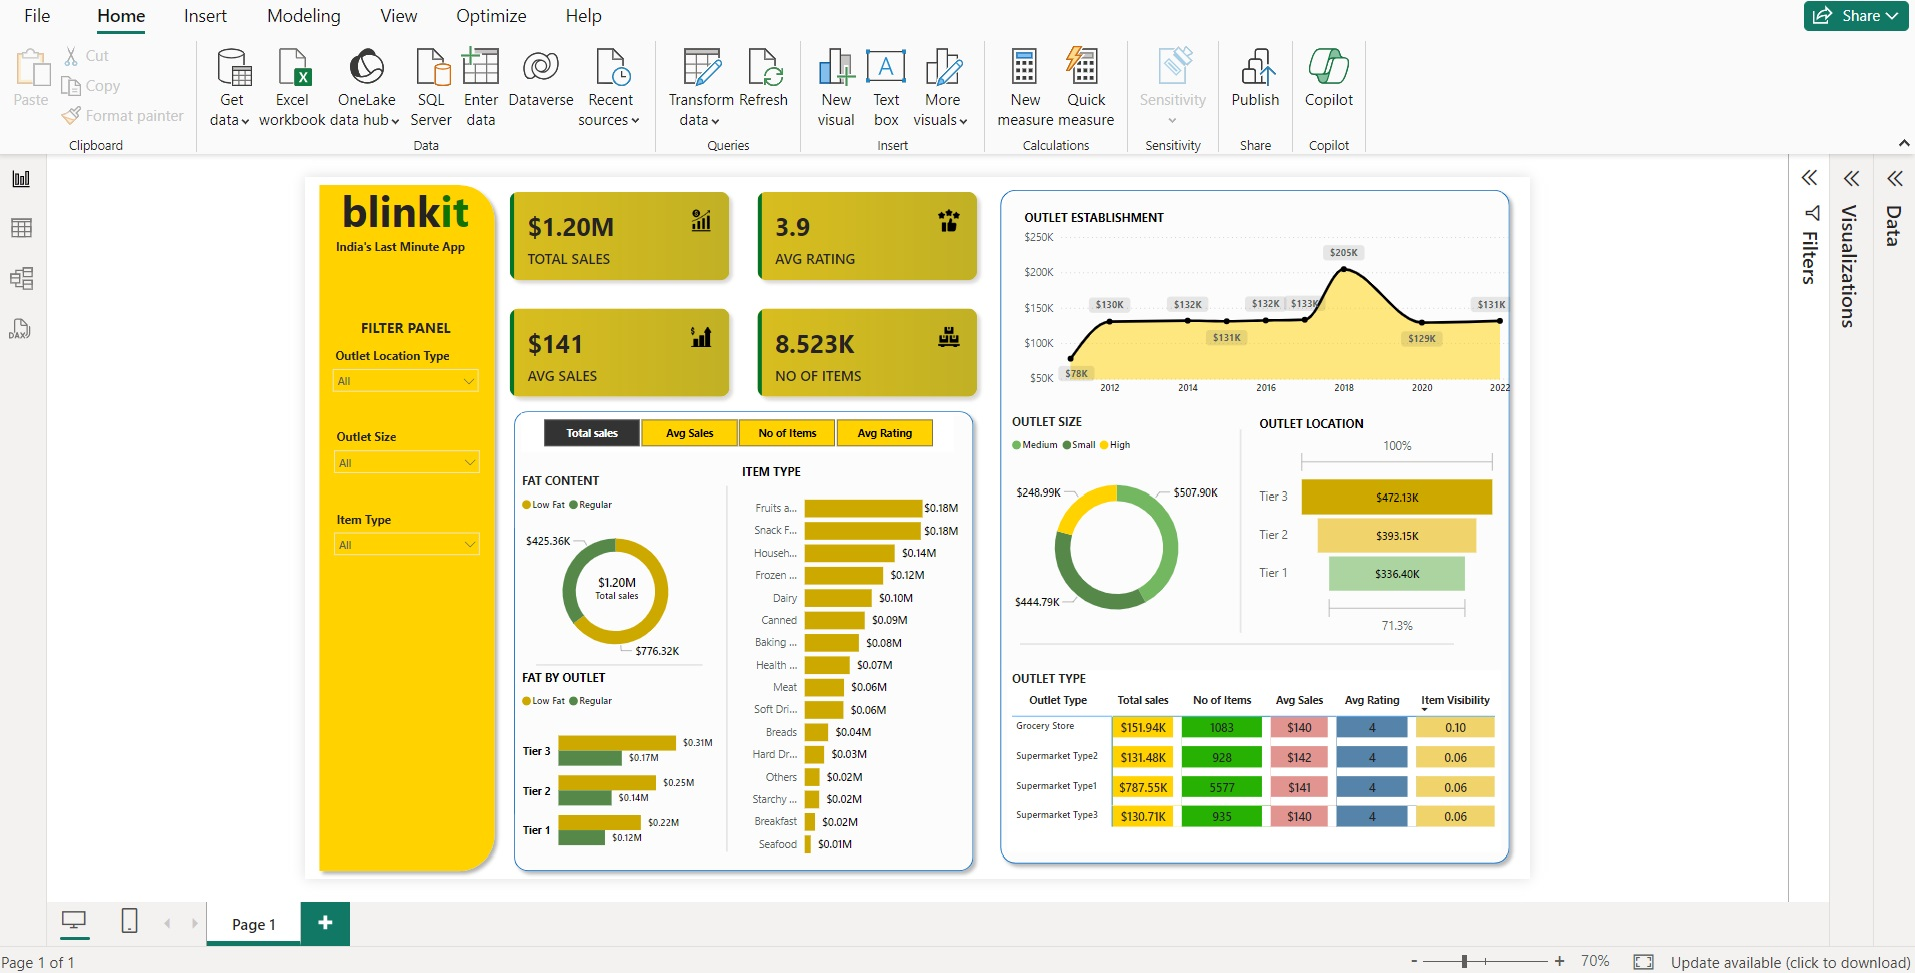

The dashboard page shown, as its layout file describes it:
{"tool":"powerbi","page":{"name":"Page 1","canvas":[1400,800],"ordinal":0},"visuals":[{"type":"shape","box":[14.1,30.8,215.4,735.9],"z":0},{"type":"textbox","box":[37.9,54.5,190.9,98.5],"z":1000},{"type":"textbox","box":[15.4,126.9,235.9,39.7],"z":2000},{"type":"cardVisual","fields":{"Data":["BlinkIT Grocery Data.Total Sales","BlinkIT Grocery Data.Average Sales","BlinkIT Grocery Data.No. of items","BlinkIT Grocery Data.Average Ratings"]},"box":[251.5,13.6,569.7,269.7],"z":3000},{"type":"shape","box":[259,266.7,553.8,500],"z":4000},{"type":"donutChart","title":"FAT CONTENT","fields":{"Y":["BlinkIT Grocery Data.No. of items"],"Category":["BlinkIT Grocery Data.Item Fat Content"]},"box":[269.2,323.1,220.5,229.5],"z":5000},{"type":"slicer","fields":{"Values":["Matrics.Matrics"]},"box":[292.3,283.3,487.2,39.7],"z":6000},{"type":"cardVisual","fields":{"Data":["BlinkIT Grocery Data.Total Sales"]},"box":[334.6,426.9,91,55.1],"z":7000},{"type":"clusteredBarChart","title":"FAT BY OUTLET","fields":{"Y":["BlinkIT Grocery Data.No. of items"],"Category":["BlinkIT Grocery Data.Outlet Location Type"],"Series":["BlinkIT Grocery Data.Item Fat Content"]},"box":[270.5,546.2,220.5,229.5],"z":8000},{"type":"shape","box":[270.5,514.1,220.5,62.8],"z":9000},{"type":"shape","box":[489.7,333.3,26.9,433.3],"z":10000},{"type":"barChart","title":"ITEM TYPE","fields":{"Y":["BlinkIT Grocery Data.No. of items"],"Category":["BlinkIT Grocery Data.Item Type"]},"box":[503.8,323.1,294.9,433.3],"z":11000},{"type":"shape","box":[812.8,30.8,564.1,735.9],"z":12000},{"type":"lineChart","title":"OUTLET ESTABLISHMENT","fields":{"Y":["BlinkIT Grocery Data.Total Sales"],"Category":["BlinkIT Grocery Data.Outlet Establishment Year"]},"box":[831.1,48.3,528.2,234.6],"z":13000},{"type":"shape","box":[825.6,260.3,538.5,62.8],"z":14000},{"type":"donutChart","title":"OUTLET SIZE","fields":{"Y":["BlinkIT Grocery Data.Total Sales"],"Category":["BlinkIT Grocery Data.Outlet Size"]},"box":[825.6,292.3,275.6,225.6],"z":15000},{"type":"shape","box":[1078.2,300,26.9,214.1],"z":16000},{"type":"funnel","title":"OUTLET LOCATION","fields":{"Y":["Sum(BlinkIT Grocery Data.Sales)"],"Category":["BlinkIT Grocery Data.Outlet Location Type"]},"box":[1101.3,300,257.7,217.9],"z":17000},{"type":"shape","box":[823.1,489.7,543.6,62.8],"z":18000},{"type":"pivotTable","title":"OUTLET TYPE","fields":{"Values":["BlinkIT Grocery Data.Total Sales","BlinkIT Grocery Data.No. of items","BlinkIT Grocery Data.Average Sales","BlinkIT Grocery Data.Average Ratings","Avg(BlinkIT Grocery Data.Item Visibility)"],"Rows":["BlinkIT Grocery Data.Outlet Type"]},"box":[823.1,528.2,541,238.5],"z":19000},{"type":"slicer","fields":{"Values":["BlinkIT Grocery Data.Outlet Location Type"]},"box":[26.9,232.1,182.1,78.2],"z":20000},{"type":"slicer","fields":{"Values":["BlinkIT Grocery Data.Outlet Size"]},"box":[26.9,320.5,182.1,78.2],"z":21000},{"type":"slicer","fields":{"Values":["BlinkIT Grocery Data.Item Type"]},"box":[26.9,411.5,182.1,78.2],"z":22000},{"type":"textbox","box":[64.1,188.5,138.5,35.9],"z":23000},{"type":"image","box":[32.1,188.5,32.1,29.5],"z":24000},{"type":"image","box":[93.6,512.8,39.7,39.7],"z":25000},{"type":"image","box":[93.6,596.2,39.7,39.7],"z":26000},{"type":"image","box":[93.6,556.4,39.7,39.7],"z":27000},{"type":"image","box":[93.6,635.9,39.7,39.7],"z":28000},{"type":"textbox","box":[57.7,684.6,151.3,35.9],"z":29000},{"type":"textbox","box":[93.8,713.1,83.1,36.2],"z":30000},{"type":"image","box":[57.7,710.3,39.7,39.7],"z":31000}]}

Visuals, with their boxes on the page's 1400x800 design canvas (x1, y1, x2, y2). These are canvas units, not pixel positions in the 1915x973 screenshot, which may show the page scaled, cropped or inside an application window:
shape: 14/31/230/767
textbox: 38/54/229/153
textbox: 15/127/251/167
cardVisual - BlinkIT Grocery Data.Total Sales x BlinkIT Grocery Data.Average Sales: 252/14/821/283
shape: 259/267/813/767
"FAT CONTENT" donutChart: 269/323/490/553
slicer - Matrics.Matrics: 292/283/780/323
cardVisual - BlinkIT Grocery Data.Total Sales: 335/427/426/482
"FAT BY OUTLET" clusteredBarChart: 270/546/491/776
shape: 270/514/491/577
shape: 490/333/517/767
"ITEM TYPE" barChart: 504/323/799/756
shape: 813/31/1377/767
"OUTLET ESTABLISHMENT" lineChart: 831/48/1359/283
shape: 826/260/1364/323
"OUTLET SIZE" donutChart: 826/292/1101/518
shape: 1078/300/1105/514
"OUTLET LOCATION" funnel: 1101/300/1359/518
shape: 823/490/1367/552
"OUTLET TYPE" pivotTable: 823/528/1364/767
slicer - BlinkIT Grocery Data.Outlet Location Type: 27/232/209/310
slicer - BlinkIT Grocery Data.Outlet Size: 27/320/209/399
slicer - BlinkIT Grocery Data.Item Type: 27/412/209/490
textbox: 64/188/203/224
image: 32/188/64/218
image: 94/513/133/552
image: 94/596/133/636
image: 94/556/133/596
image: 94/636/133/676
textbox: 58/685/209/720
textbox: 94/713/177/749
image: 58/710/97/750
